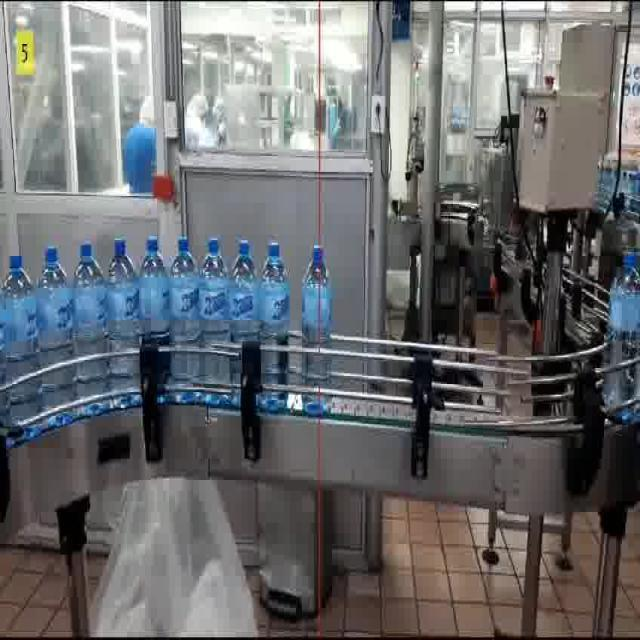bottle: (33, 245, 75, 415), (0, 254, 40, 427), (220, 230, 264, 386), (601, 247, 638, 425), (70, 239, 108, 384), (104, 236, 140, 380), (196, 236, 230, 386), (257, 240, 291, 388), (167, 234, 200, 381), (299, 243, 333, 382), (137, 233, 170, 338)
